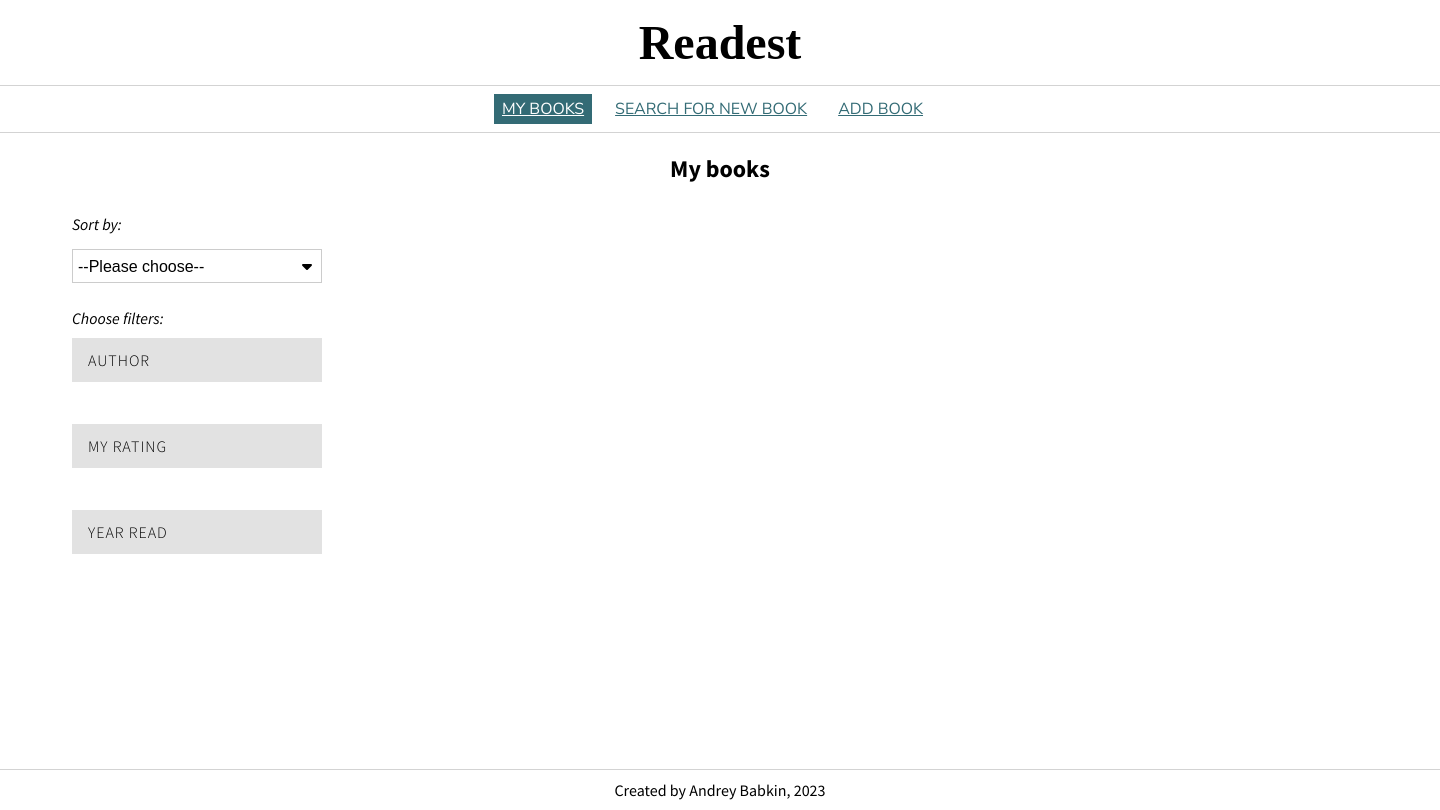
Test: Add book functionality › add book route working
This screenshot has width=1440, height=810.
Step 1. Click the link "Add Book" → (881, 109), box 838,98 -> 923,120
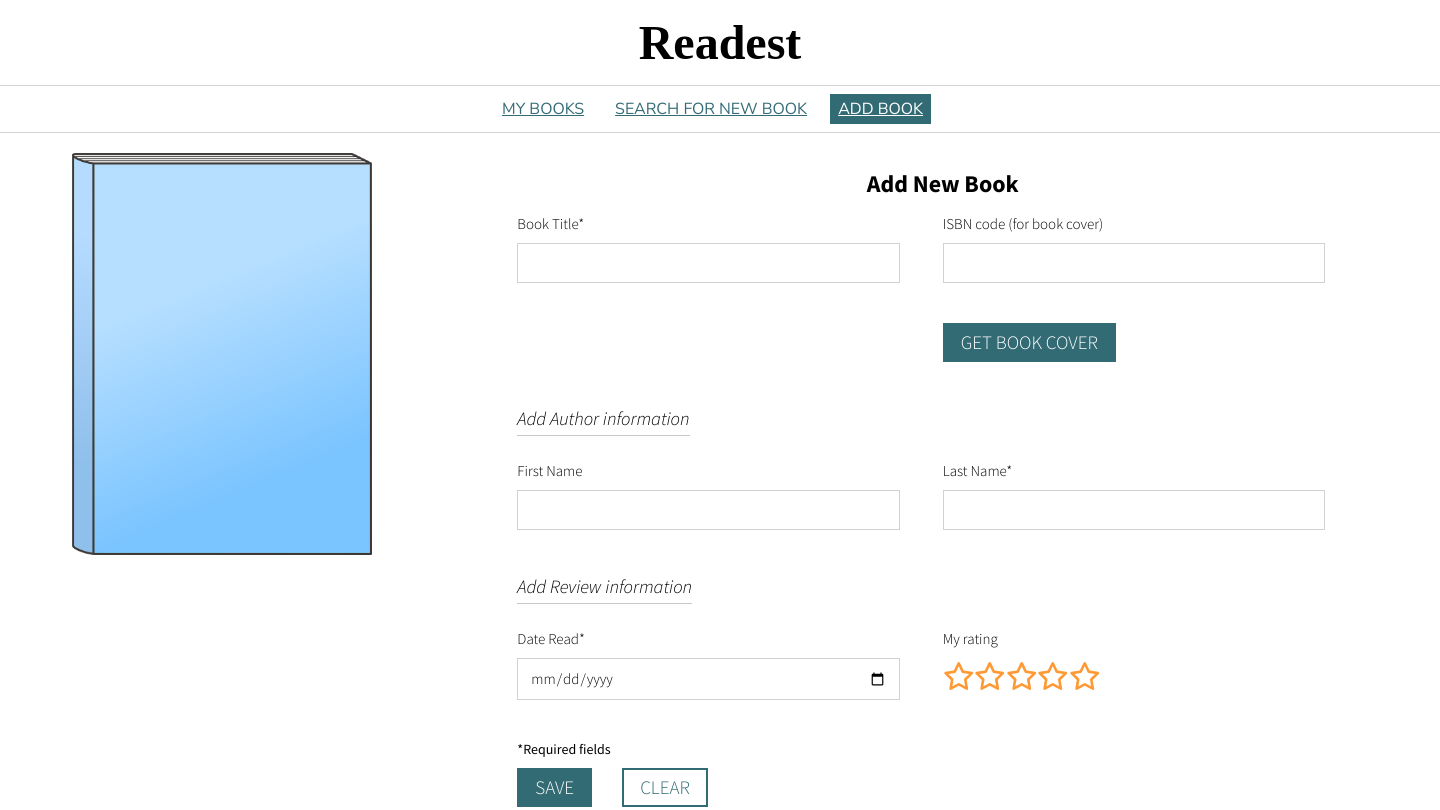
Now the heading "Add New Book" is shown, box 867,168 -> 1019,199
